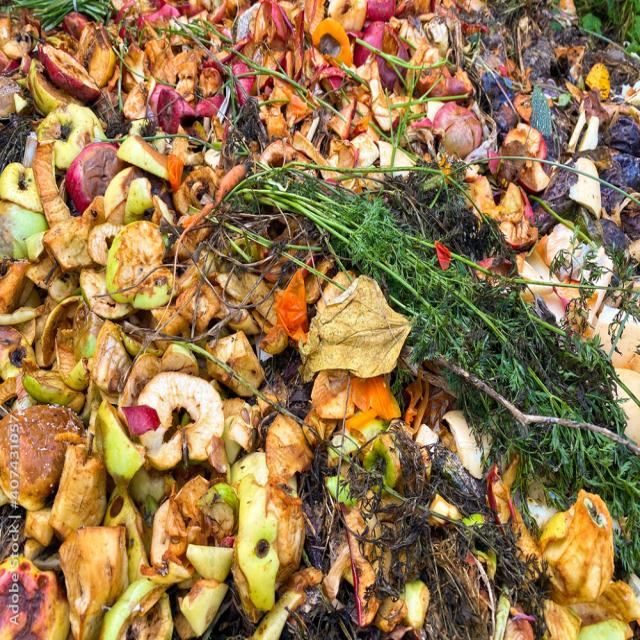fruits - vegetables_waste: (250, 221, 630, 631), (0, 289, 239, 628), (0, 4, 208, 281), (458, 0, 640, 279), (211, 0, 442, 199)
